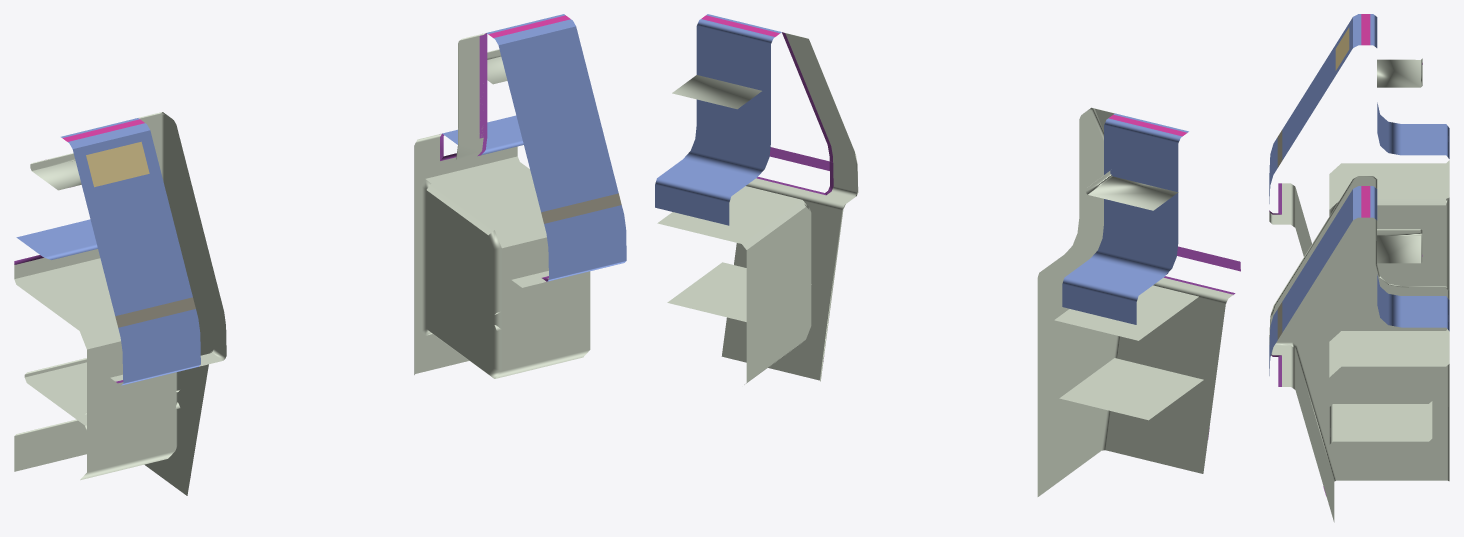
File: counter_welcome_1_door_microtech_01x0075x0140_a.glb
3 views of the same model, side by side, from view 1: azimuth 30°, elevation 25°; view 2: azimuth 150°, elevation 25°; view 3: azimuth 270°, elevation 25° (orthographic). The views are drawn at different scales.
Size of the model in its own units: 2 by 1.4 by 0.7502.
